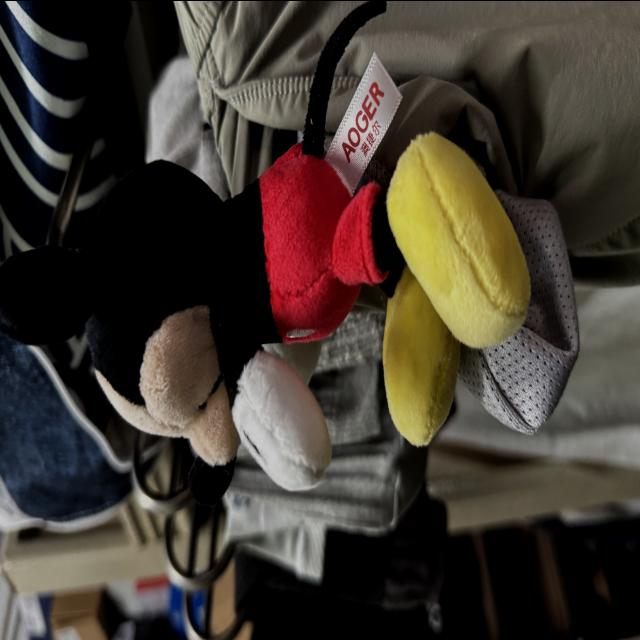mickey: (0, 1, 529, 502)
